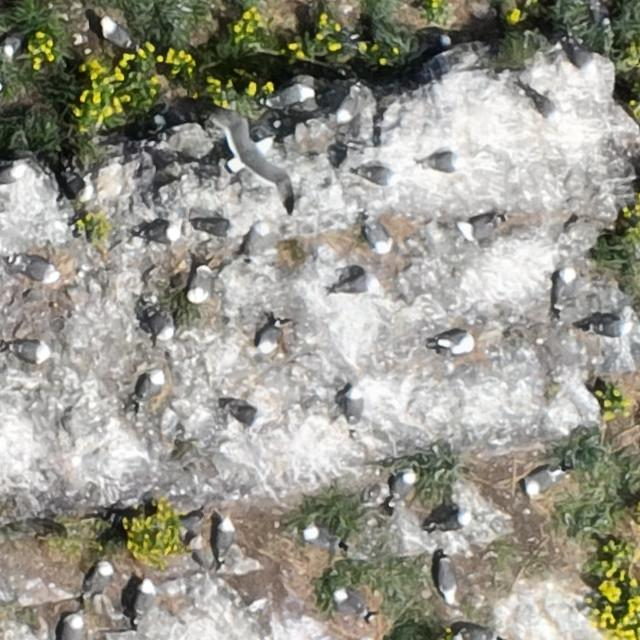F: (223, 119, 291, 205)
umineko: (550, 265, 578, 318), (261, 85, 312, 114), (364, 212, 394, 256), (336, 274, 380, 302), (530, 89, 563, 126), (245, 220, 269, 268), (569, 44, 597, 85), (146, 308, 175, 342), (85, 564, 111, 598), (104, 19, 133, 48), (526, 469, 558, 494), (18, 260, 56, 280), (335, 590, 366, 614), (438, 561, 456, 601), (588, 318, 628, 336), (425, 154, 461, 172), (138, 372, 162, 399), (430, 512, 468, 529), (464, 218, 496, 238), (198, 218, 233, 236), (393, 471, 414, 500), (227, 405, 259, 424), (304, 527, 331, 549), (217, 521, 234, 555), (15, 342, 48, 359), (135, 584, 152, 617), (336, 92, 356, 120), (143, 224, 177, 240), (439, 333, 470, 350), (62, 615, 82, 640), (345, 389, 360, 422), (362, 168, 392, 183), (190, 270, 206, 298), (4, 36, 24, 58), (259, 327, 277, 351), (590, 4, 608, 27), (0, 165, 20, 185), (436, 32, 452, 47)
